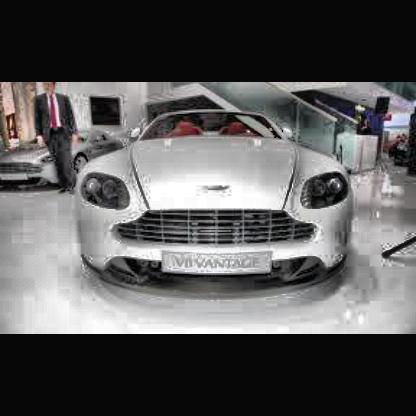Aston Martin V8 Vantage Convertible 2012: (63, 104, 359, 304)
